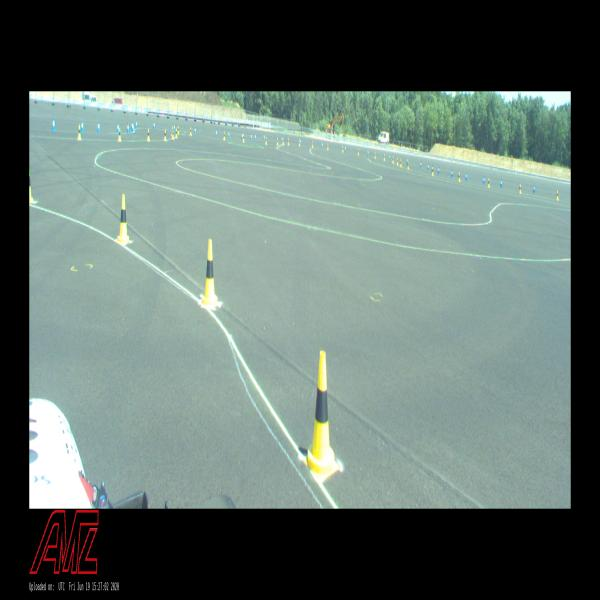blue_cone: (52, 117, 55, 131), (81, 119, 84, 133), (126, 123, 130, 133), (97, 121, 100, 132), (135, 120, 138, 129), (465, 172, 468, 181), (117, 121, 119, 133), (216, 128, 218, 138), (132, 122, 134, 132), (451, 169, 453, 178), (500, 179, 502, 188), (131, 121, 133, 130), (482, 176, 484, 184), (194, 126, 196, 134), (250, 133, 252, 141), (153, 121, 155, 129), (228, 130, 230, 138), (533, 185, 535, 193), (420, 160, 422, 168), (174, 124, 176, 132), (427, 164, 429, 172), (263, 134, 265, 140), (367, 150, 369, 156), (255, 133, 256, 141), (242, 132, 243, 140), (438, 166, 439, 174), (300, 138, 301, 146), (389, 154, 390, 161), (407, 158, 408, 164), (282, 136, 282, 143)
yellow_cone: (304, 351, 339, 482), (201, 238, 218, 309), (116, 194, 130, 245), (29, 163, 33, 204), (77, 124, 82, 140), (118, 127, 122, 142), (518, 183, 522, 194), (147, 128, 150, 142), (164, 129, 167, 141), (556, 190, 559, 201), (487, 177, 490, 188), (223, 131, 226, 141), (431, 166, 434, 176), (458, 172, 461, 182), (172, 128, 174, 140), (190, 126, 192, 136), (176, 128, 178, 138), (242, 133, 244, 143), (407, 161, 409, 170), (396, 158, 398, 166), (265, 137, 267, 145), (282, 138, 284, 146), (400, 159, 402, 167), (392, 156, 394, 164), (384, 154, 386, 162), (374, 152, 376, 159), (357, 149, 359, 155), (277, 138, 278, 146), (312, 141, 313, 149), (178, 126, 179, 134), (172, 127, 173, 135), (288, 138, 289, 145), (299, 140, 300, 146)
